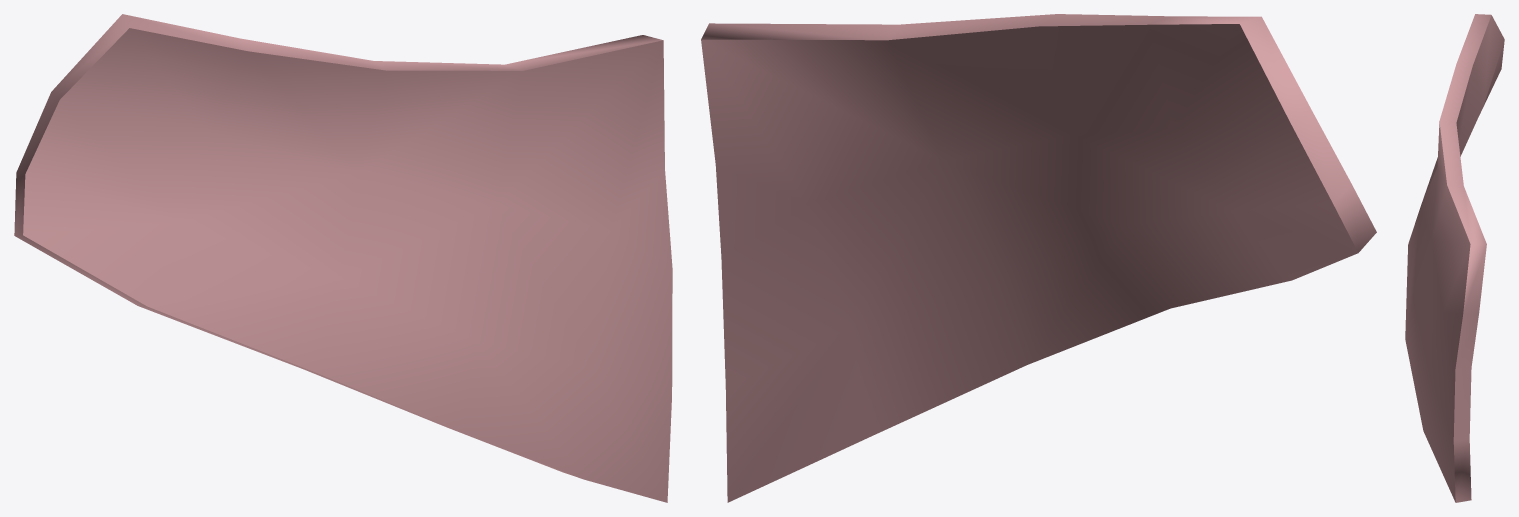
The picture shows the model from 3 angles, left to right: view 1: azimuth 30°, elevation 25°; view 2: azimuth 150°, elevation 25°; view 3: azimuth 270°, elevation 25°; orthographic projection. The views are drawn at different scales.
Parts seen in each view (by area): view 1: ZA_1e93664959de8dc2; view 2: ZA_1e93664959de8dc2; view 3: ZA_1e93664959de8dc2.
Part boxes in pixels (x1=…): ZA_1e93664959de8dc2: x1=14, y1=14, x2=672, y2=502; ZA_1e93664959de8dc2: x1=701, y1=14, x2=1376, y2=502; ZA_1e93664959de8dc2: x1=1405, y1=14, x2=1504, y2=502.
Bounding box in the file's own units: 0.0749 × 0.0663 × 0.0175.
